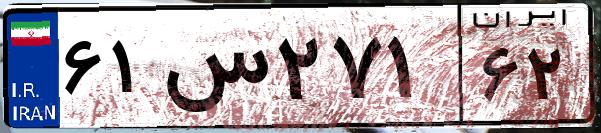1: (385, 28, 445, 110), (110, 28, 158, 98)
2: (270, 28, 330, 110), (525, 38, 570, 115)
6: (57, 26, 110, 100), (475, 38, 525, 113)
7: (330, 28, 385, 110)
س: (158, 20, 270, 120)
